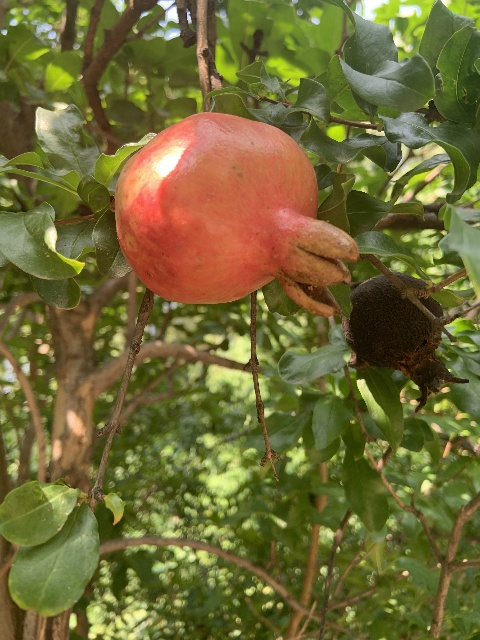ripe: (112, 112, 358, 316)
